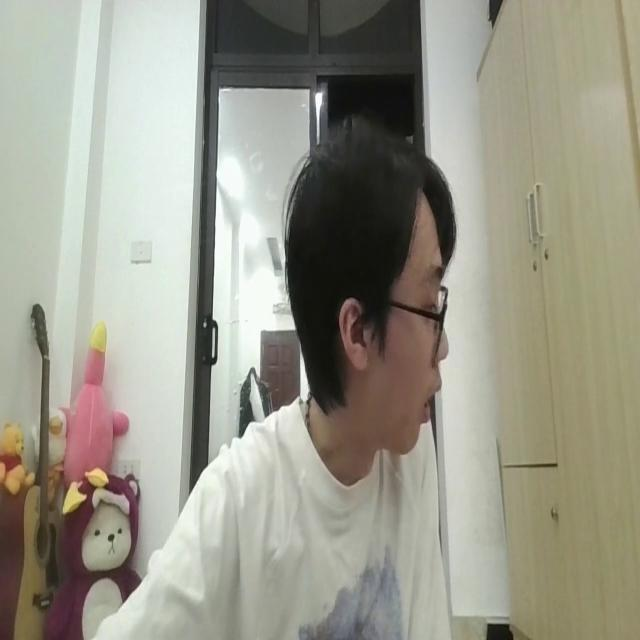student: (99, 106, 474, 640)
